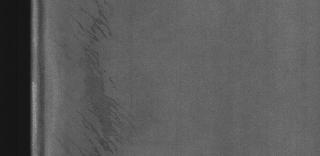water spot: (66, 2, 128, 156)
